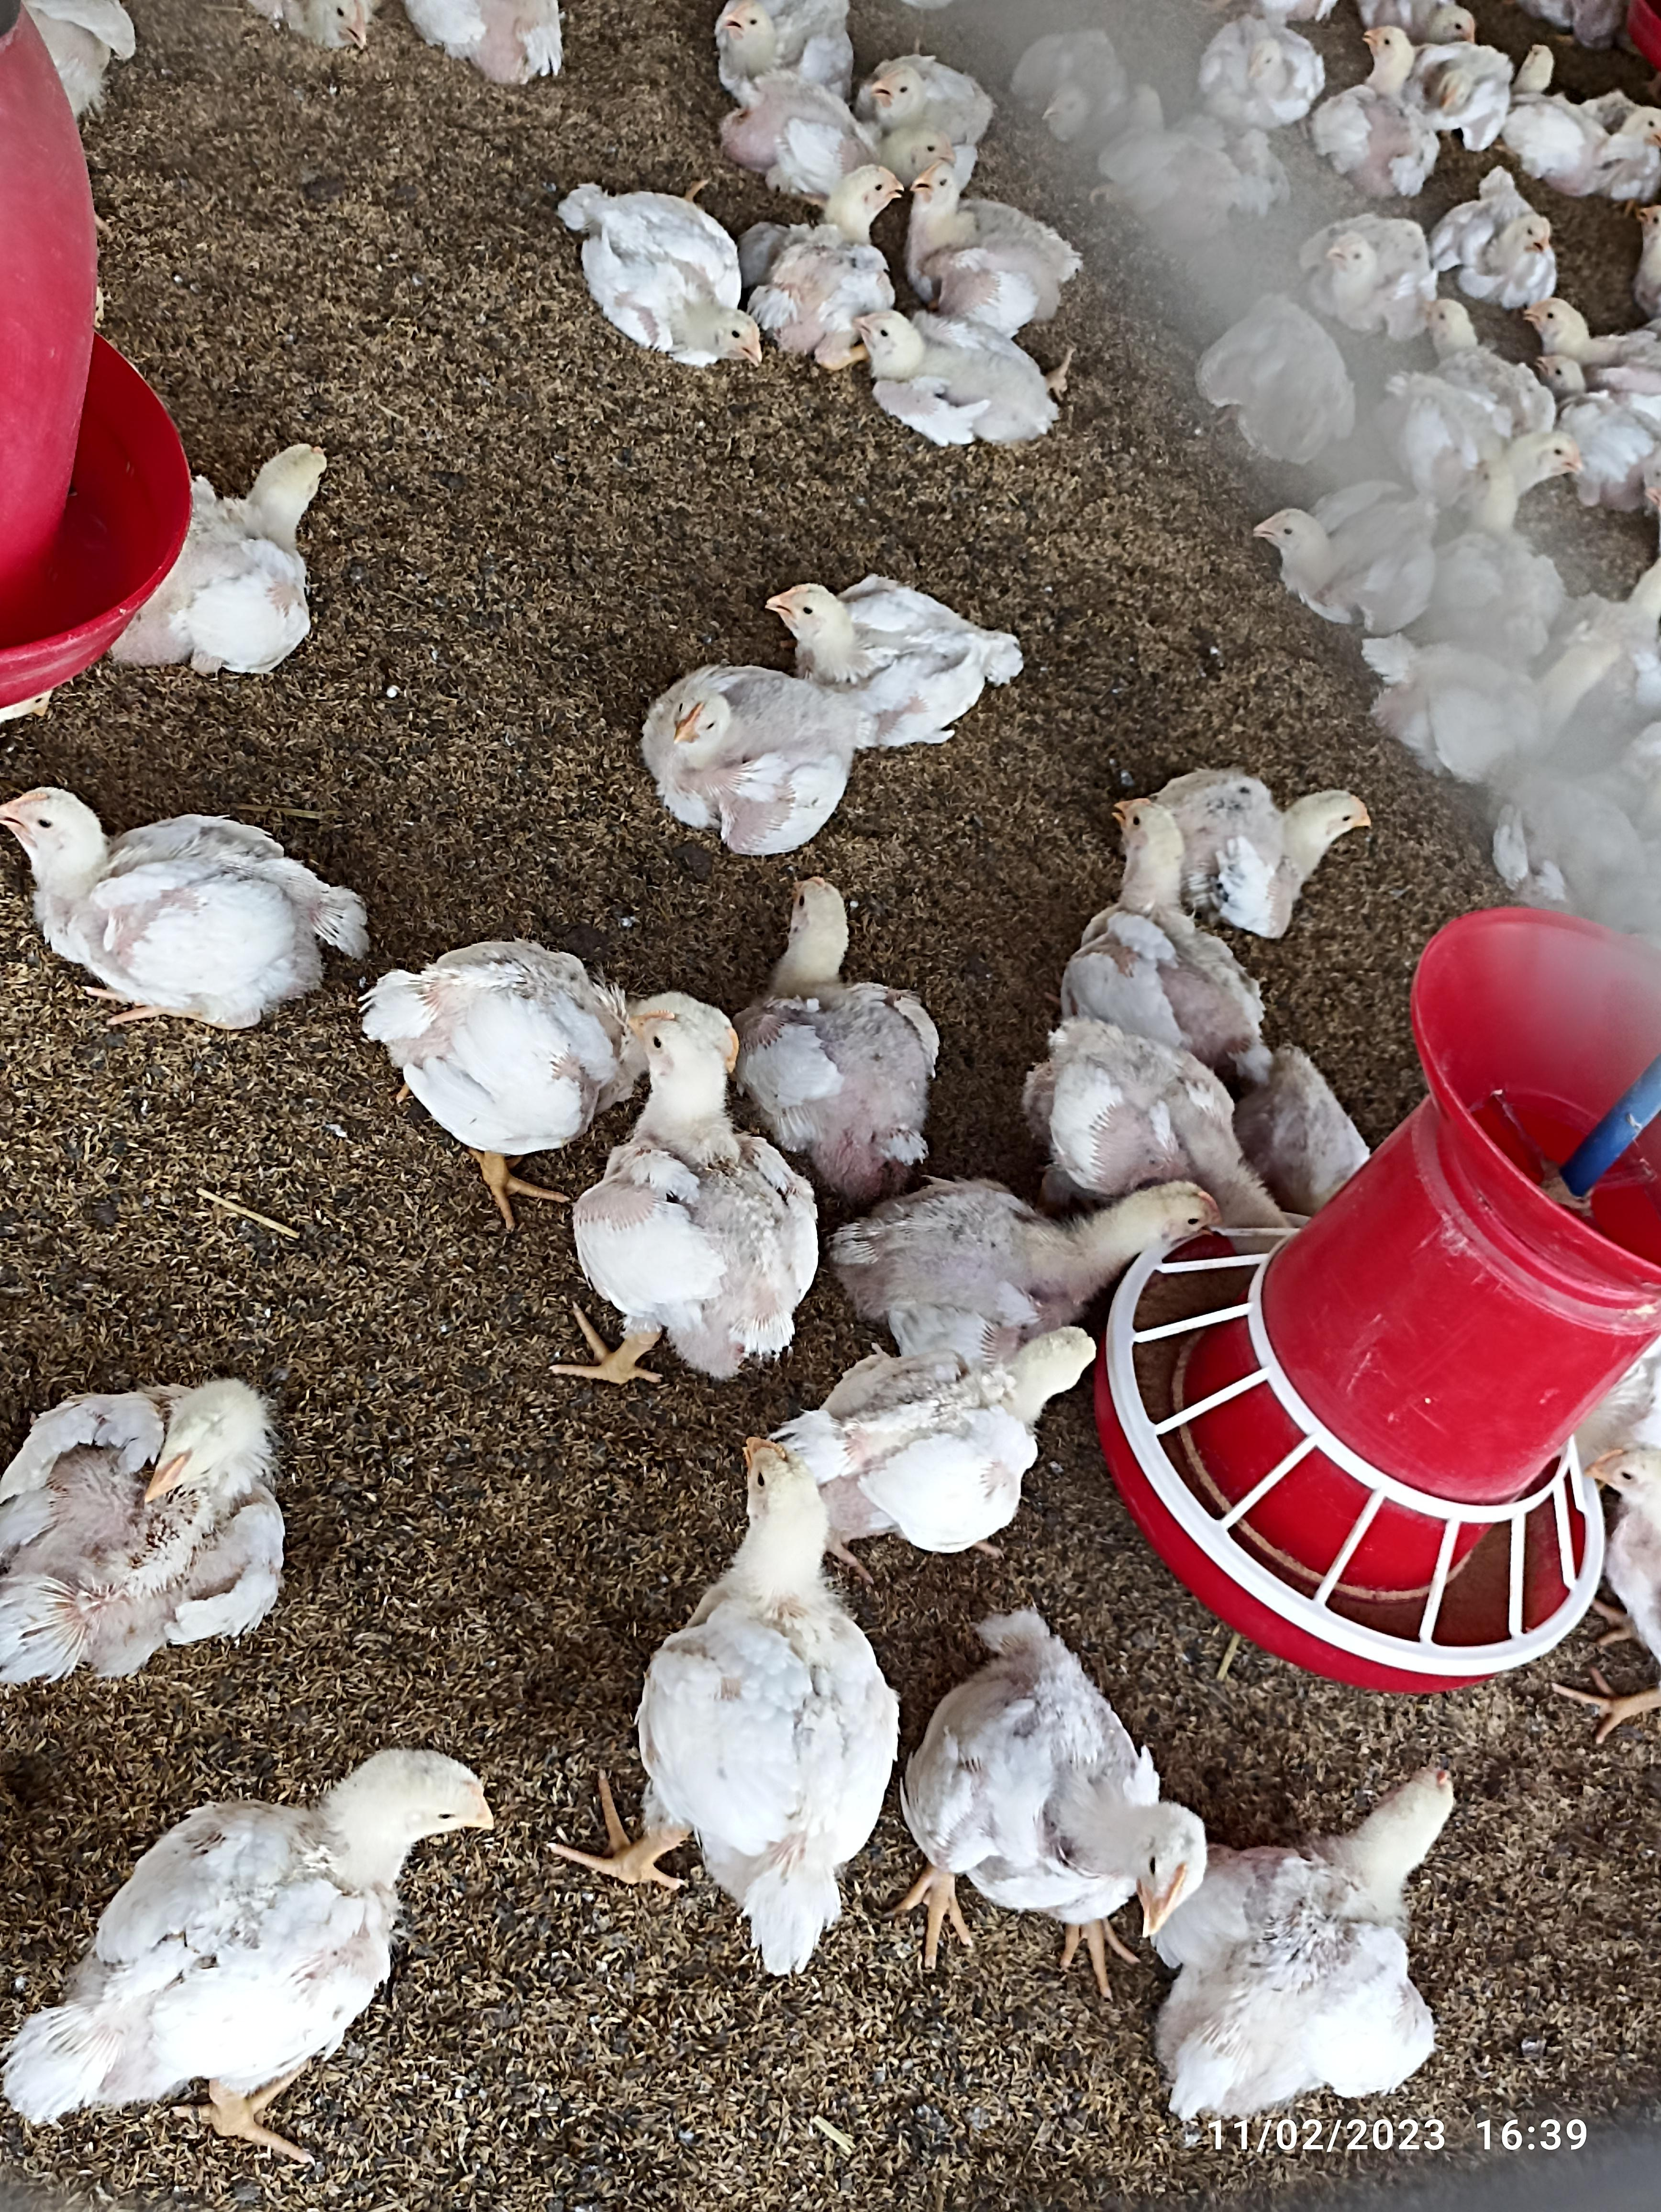Pollos: (2, 1736, 494, 2132), (637, 1430, 892, 1959), (1155, 1753, 1473, 2140), (0, 1359, 295, 1685), (913, 1622, 1223, 1919), (0, 782, 373, 1005), (811, 1312, 1090, 1528), (352, 944, 660, 1139), (616, 1012, 785, 1359), (761, 867, 942, 1160), (612, 668, 872, 853), (1082, 792, 1244, 1073), (147, 431, 338, 661), (1159, 752, 1385, 940), (558, 176, 775, 365), (895, 152, 1108, 304), (757, 570, 1017, 687), (1398, 372, 1593, 527), (1263, 492, 1459, 637), (879, 314, 1078, 452), (775, 166, 909, 365), (1300, 26, 1459, 181), (1281, 223, 1432, 333), (1455, 176, 1574, 300), (862, 51, 981, 141)
